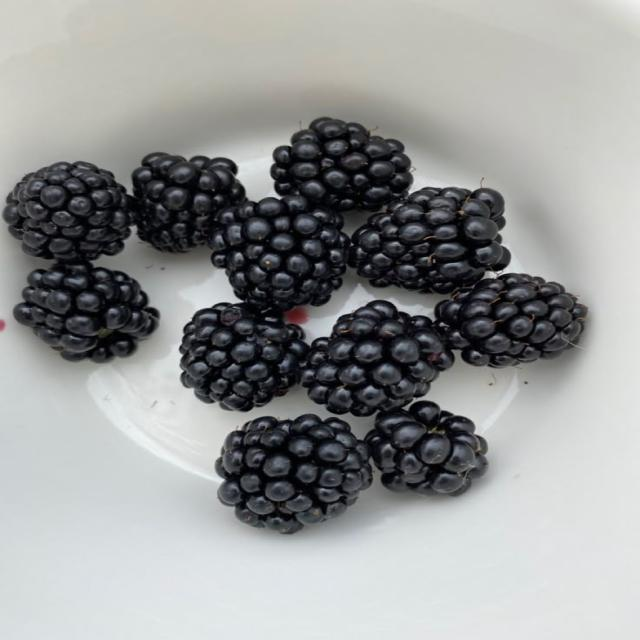raspberry: (217, 414, 371, 534), (301, 300, 453, 416), (350, 187, 510, 293), (210, 196, 350, 311), (14, 261, 158, 363), (436, 273, 587, 367), (179, 303, 309, 411), (271, 117, 412, 211), (3, 162, 133, 261), (365, 401, 487, 495), (132, 152, 244, 253)
